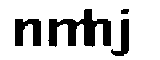h: (83, 3, 115, 50)
j: (112, 6, 137, 60)
m: (45, 15, 91, 51)
n: (10, 15, 41, 54)
